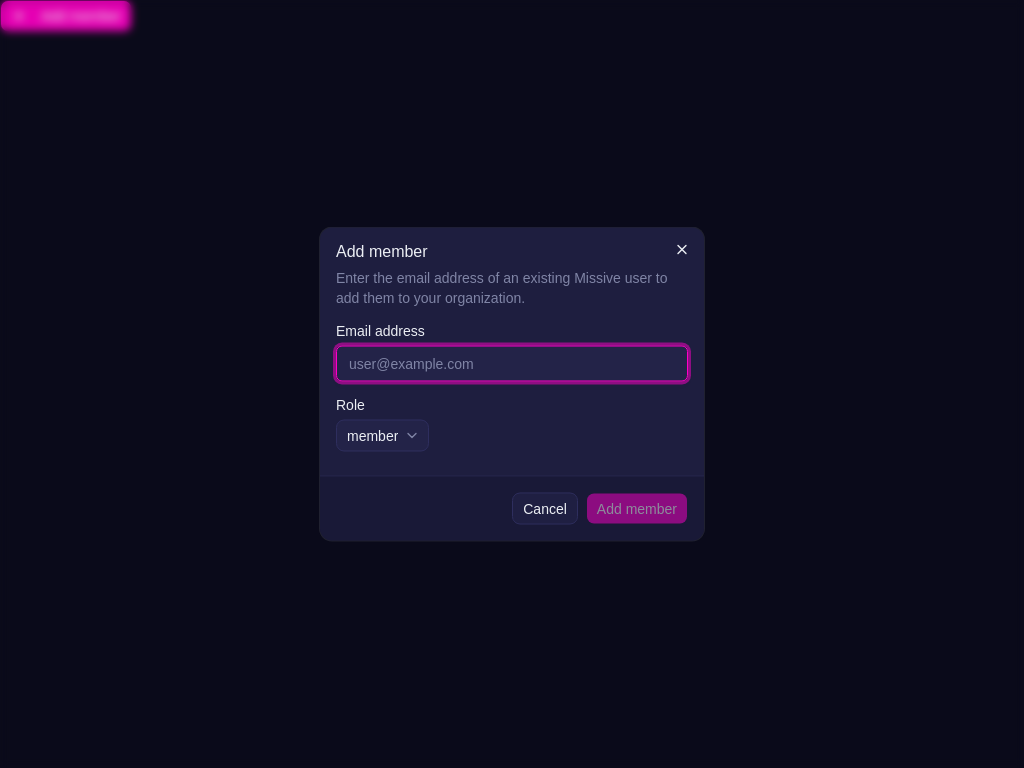
Test case: AddMemberDialog › 'Owner' role option is absent when isOwner=false
The width and height of the screenshot is (1024, 768).
Click the dropdown: (383, 436) [336, 420, 429, 452]
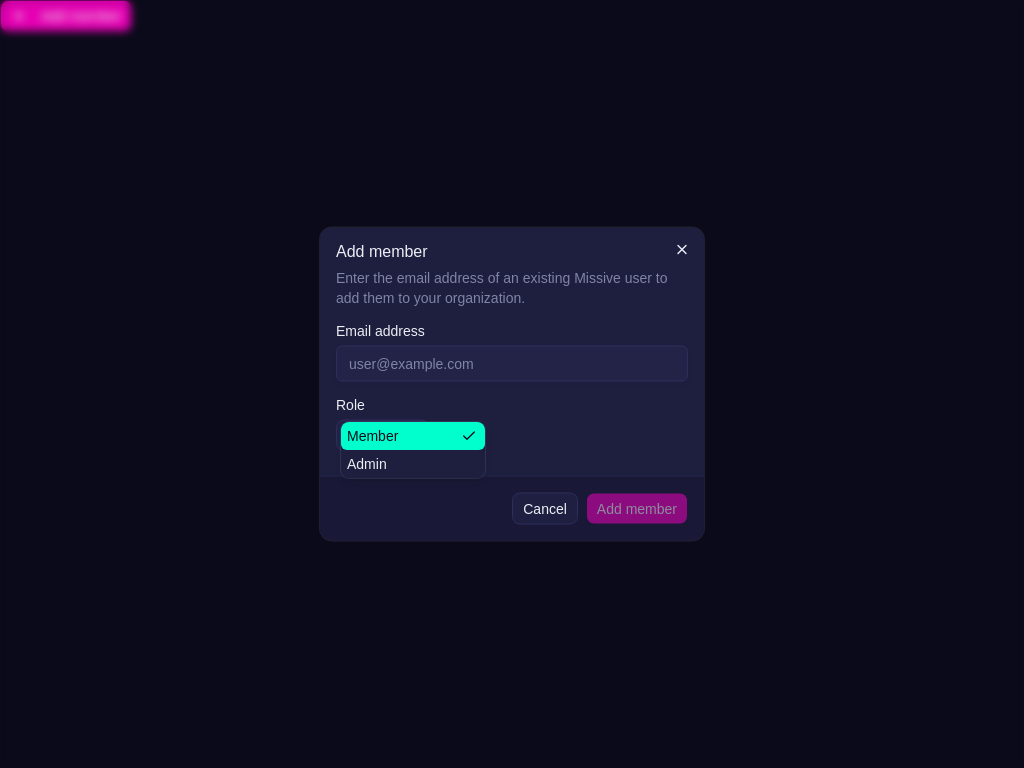
Expected: the option "Member" is shown, [341, 422, 485, 450]
